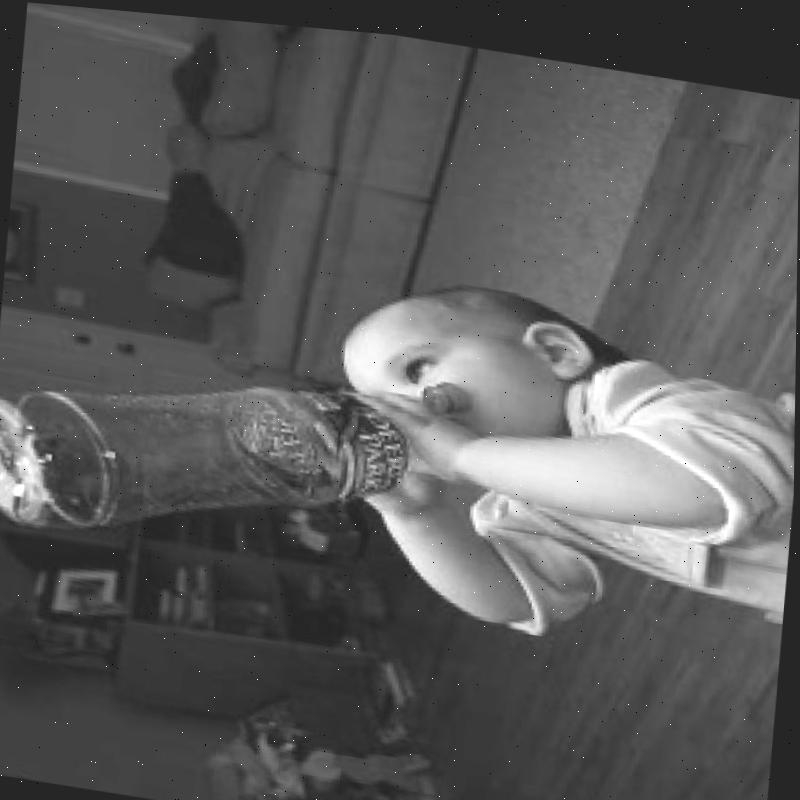botella: (0, 310, 472, 585)
